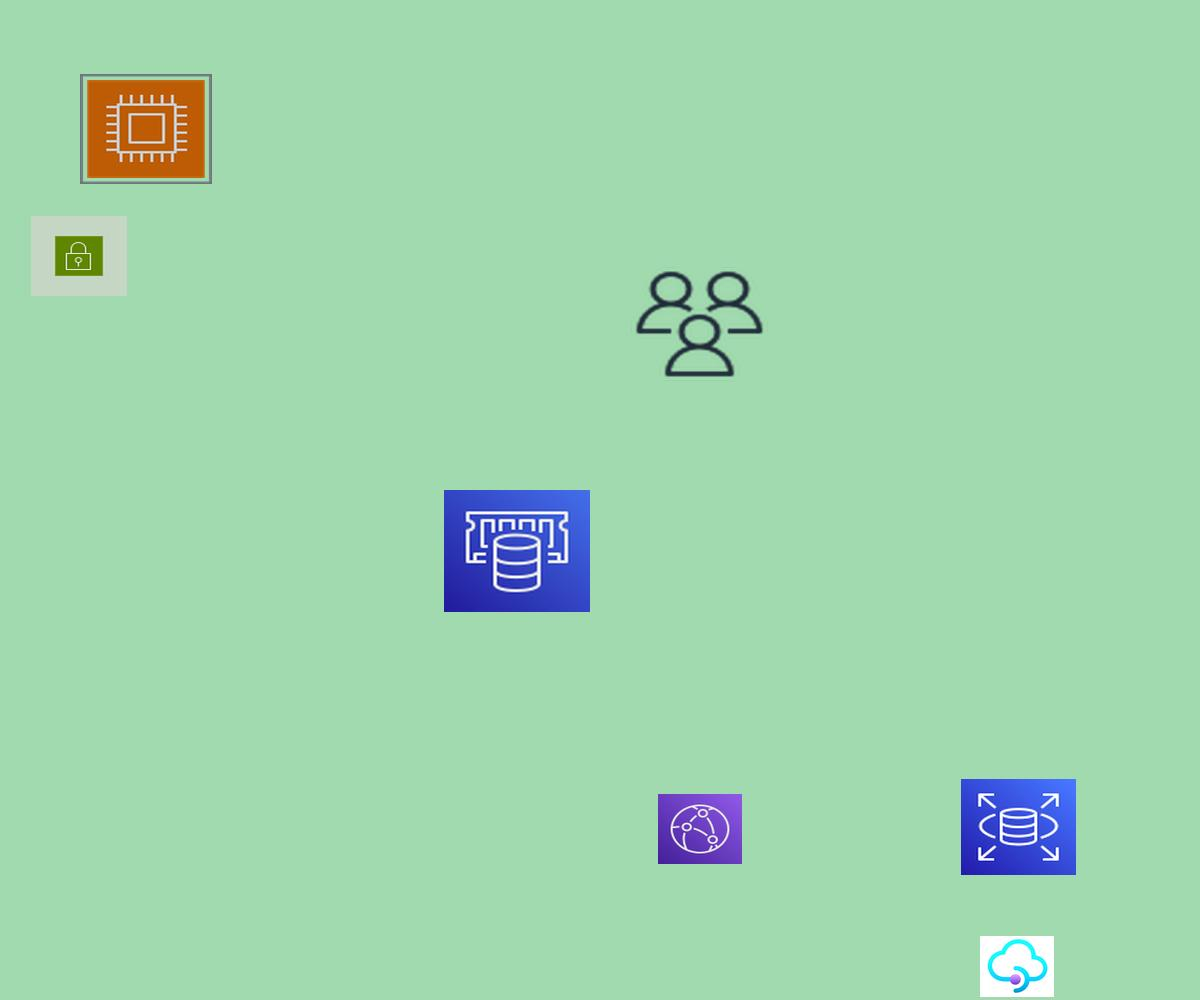AWS-Category_Compute: (80, 74, 212, 184)
AWS-CloudFront: (658, 794, 742, 864)
AWS-ElastiCache: (444, 490, 590, 612)
AWS-Public-subnet: (31, 216, 127, 296)
AWS-RDS: (961, 779, 1076, 875)
AWS-Res_Users: (631, 267, 768, 381)
Azure_api_gateway: (980, 936, 1054, 997)
